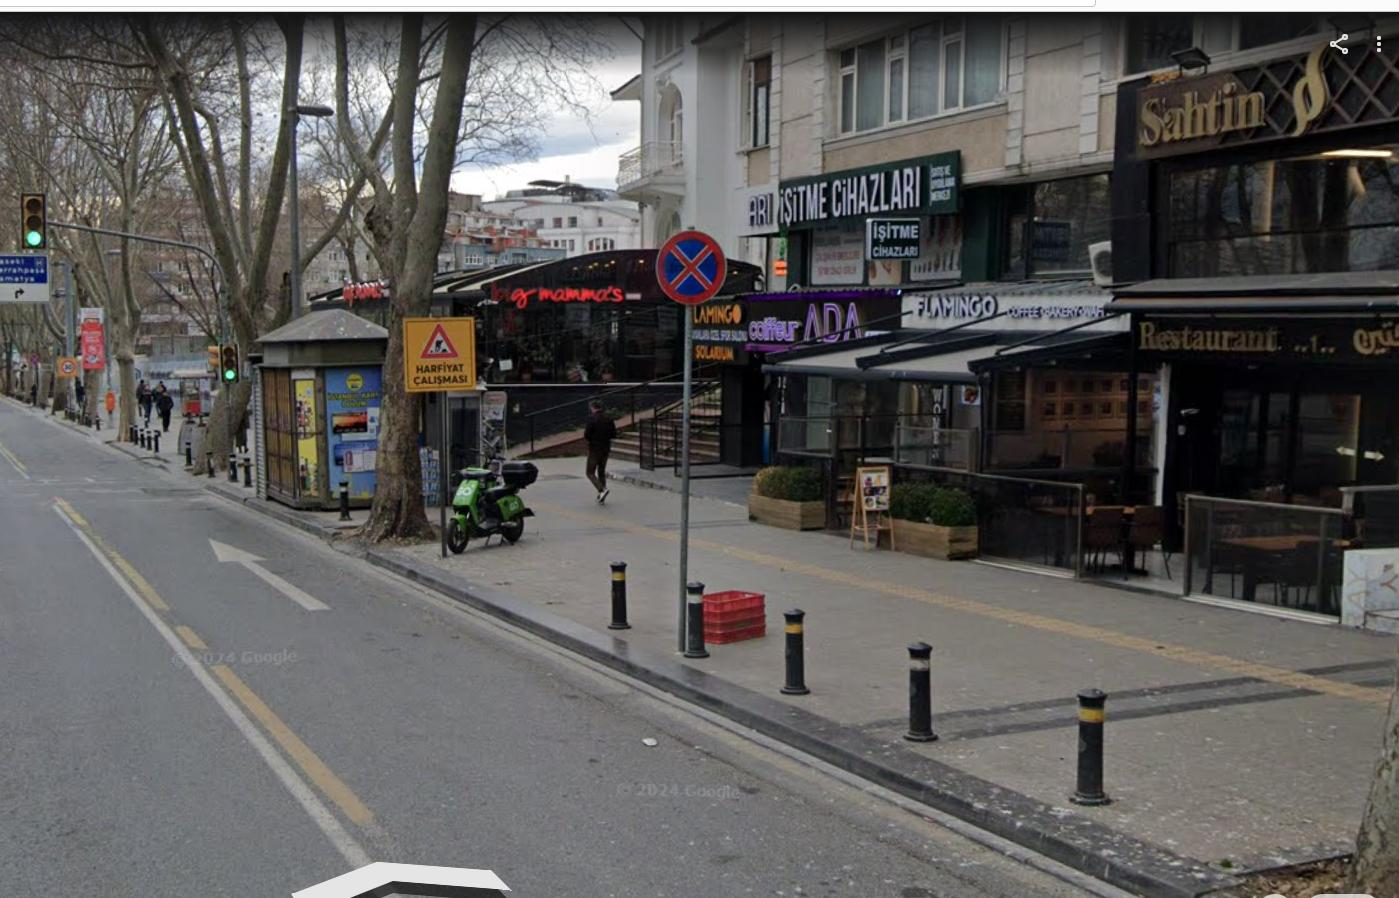greenlight: (18, 195, 50, 253), (219, 345, 241, 386)
